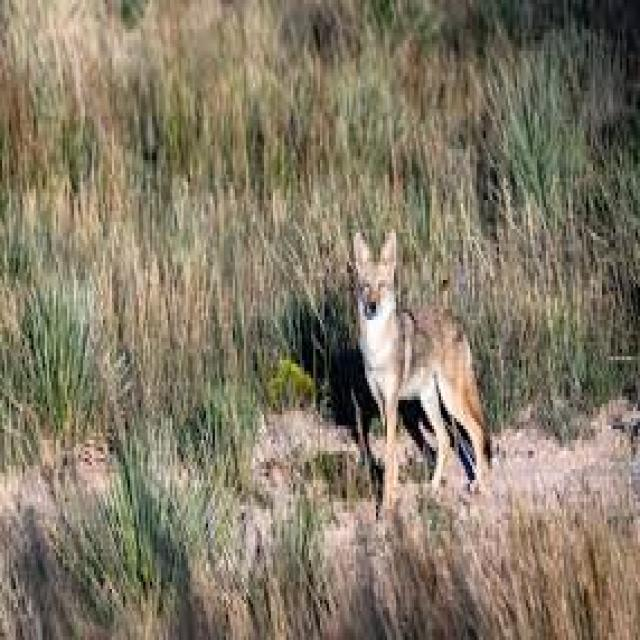Coyote: (339, 215, 498, 517)
